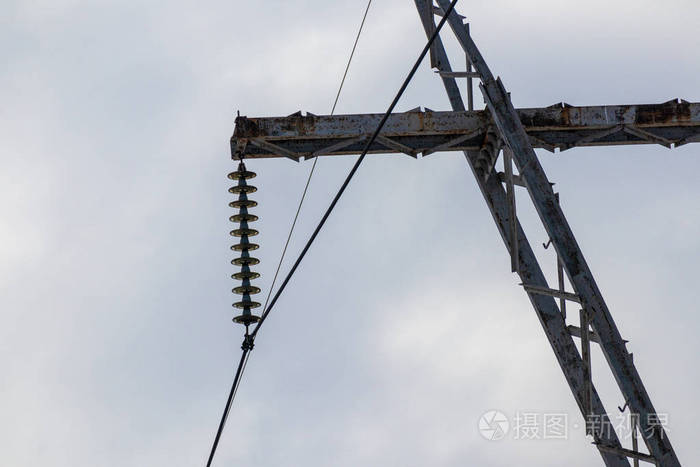insulator: (224, 168, 263, 328)
